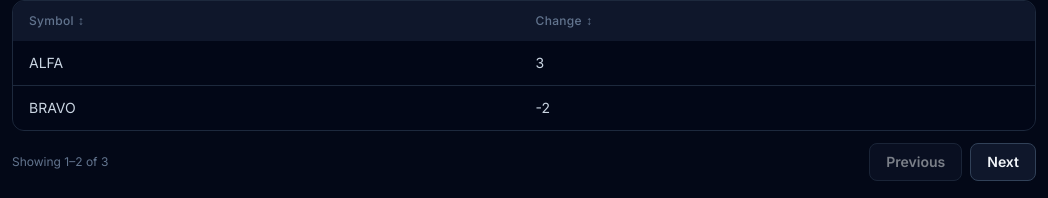
Scenario: DataTable › sorts values and paginates rows
Step 1. Click the button "Change ↕" → coordinates (564, 21), box [536, 13, 592, 29]
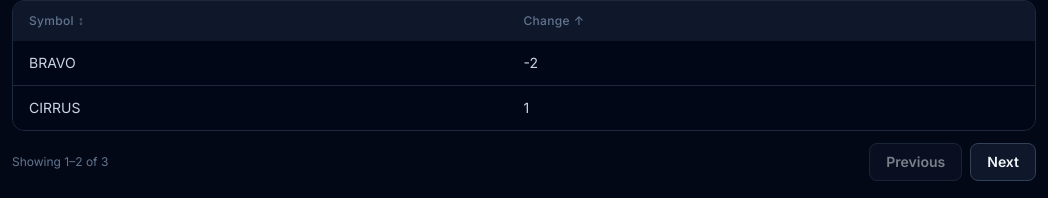
Expected: the text "BRAVO" is shown, [13, 41, 508, 86]
Step 2. Click the button "Next" → coordinates (1003, 162), box [970, 143, 1036, 181]
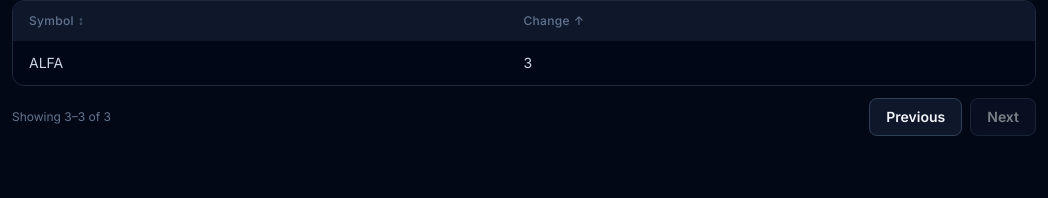
Expected: the text "Showing 3–3 of 3" is shown, [12, 109, 111, 125]
Expected: the text "ALFA" is shown, [13, 41, 508, 85]
Expected: the text "BRAVO" is gone
